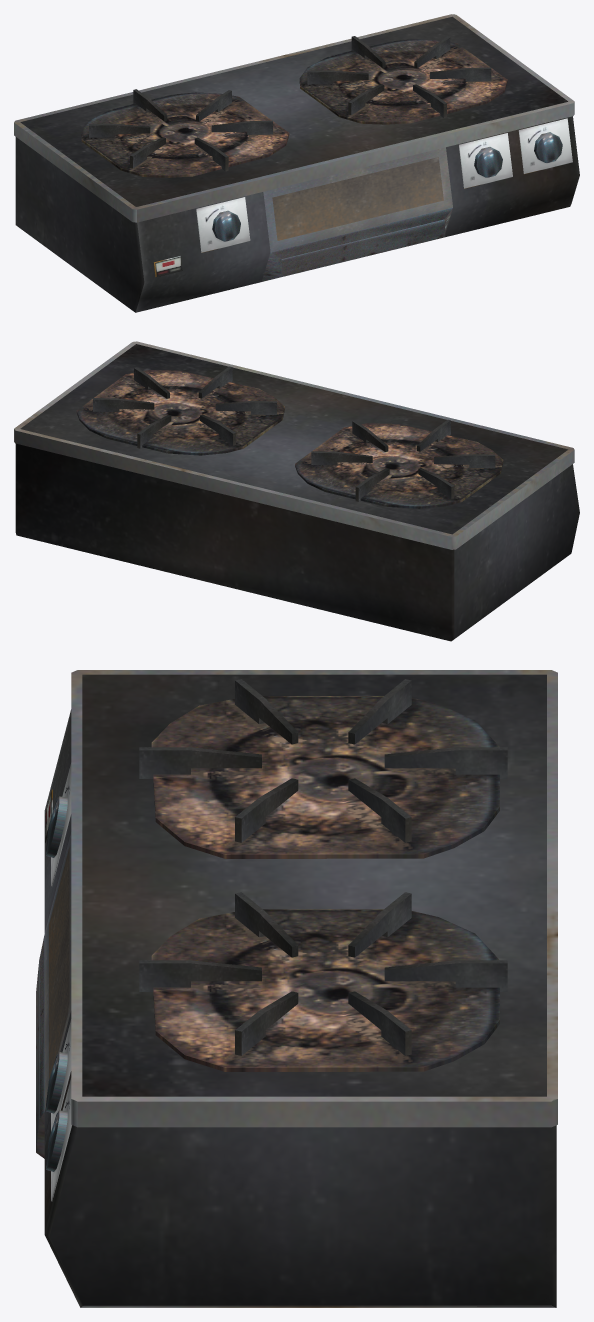
File: pub_cooker01.fbx
3 renders of one model, top to bottom at view 1: azimuth 30°, elevation 25°; view 2: azimuth 150°, elevation 25°; view 3: azimuth 270°, elevation 25°, orthographic. The views are drawn at different scales.
Parts seen in each view (by area): view 1: pub_cooker01; view 2: pub_cooker01; view 3: pub_cooker01.
Boxes of the visible parts, bbox=[...] form: pub_cooker01: bbox=[14, 14, 579, 312]; pub_cooker01: bbox=[14, 341, 579, 641]; pub_cooker01: bbox=[36, 670, 557, 1307].
Size of the model in its own units: 91.02 by 46.54 by 23.46.
Materials: 1 (1 with a texture image).
